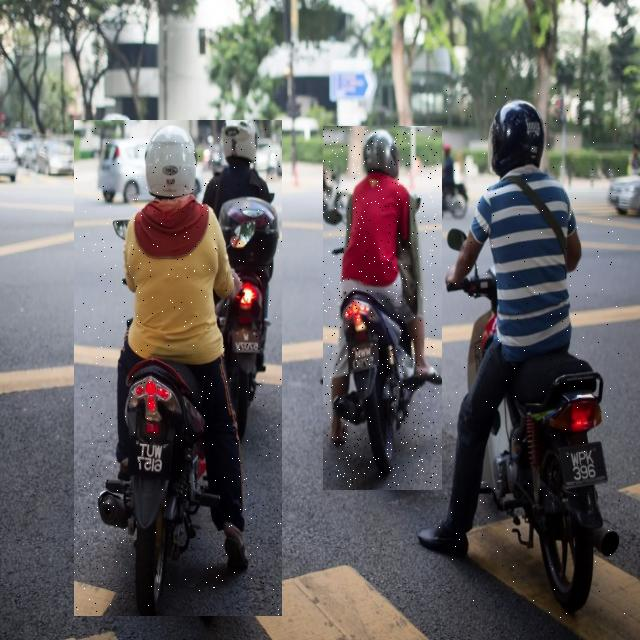With Helmet: (74, 120, 282, 616), (438, 86, 626, 632), (323, 126, 442, 490)
